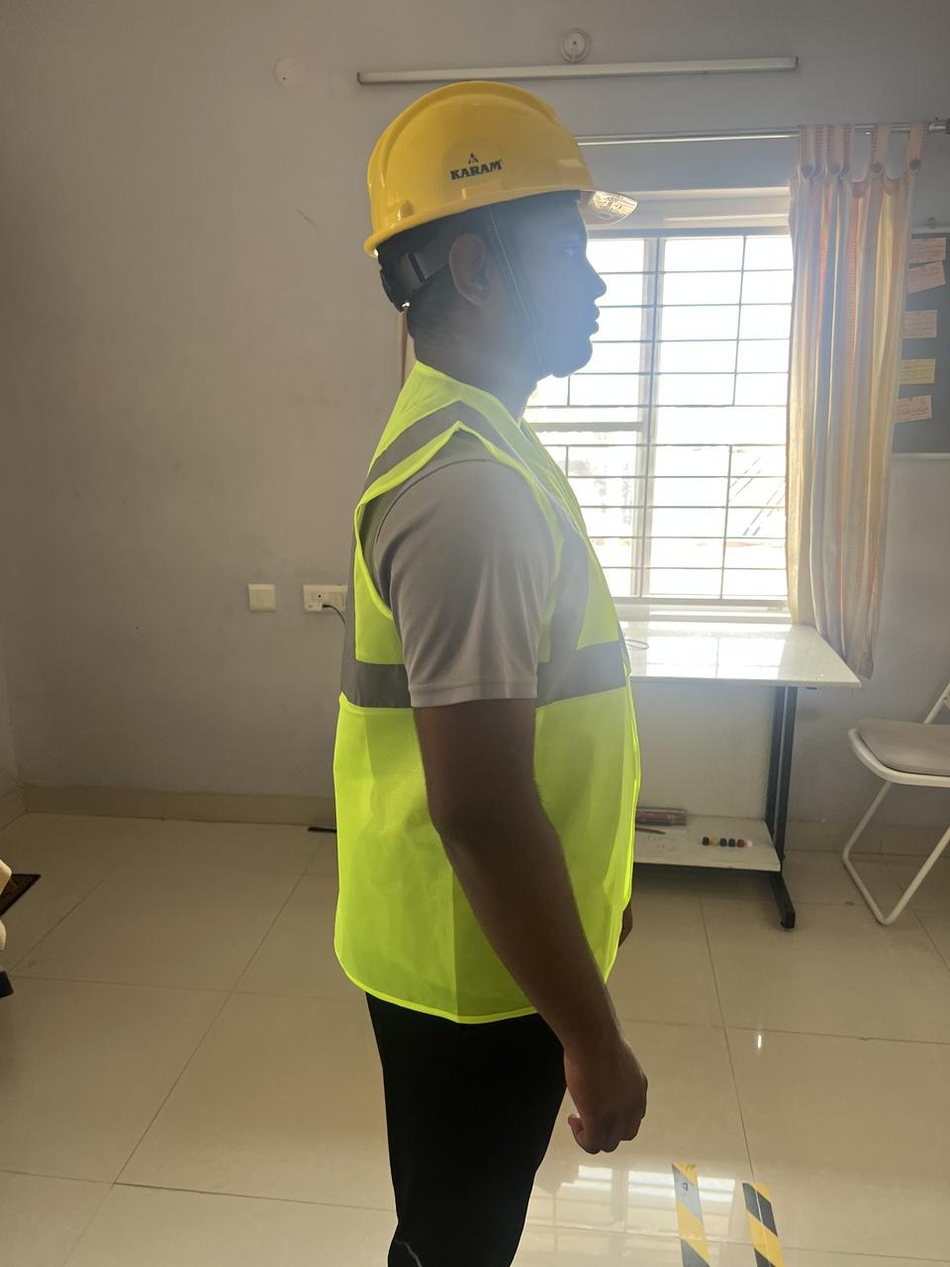BorderLine: (674, 1163, 710, 1267), (741, 1184, 783, 1267)
Helmet: (362, 82, 634, 257)
Person: (335, 80, 647, 1267)
Vest: (335, 358, 644, 1027)
